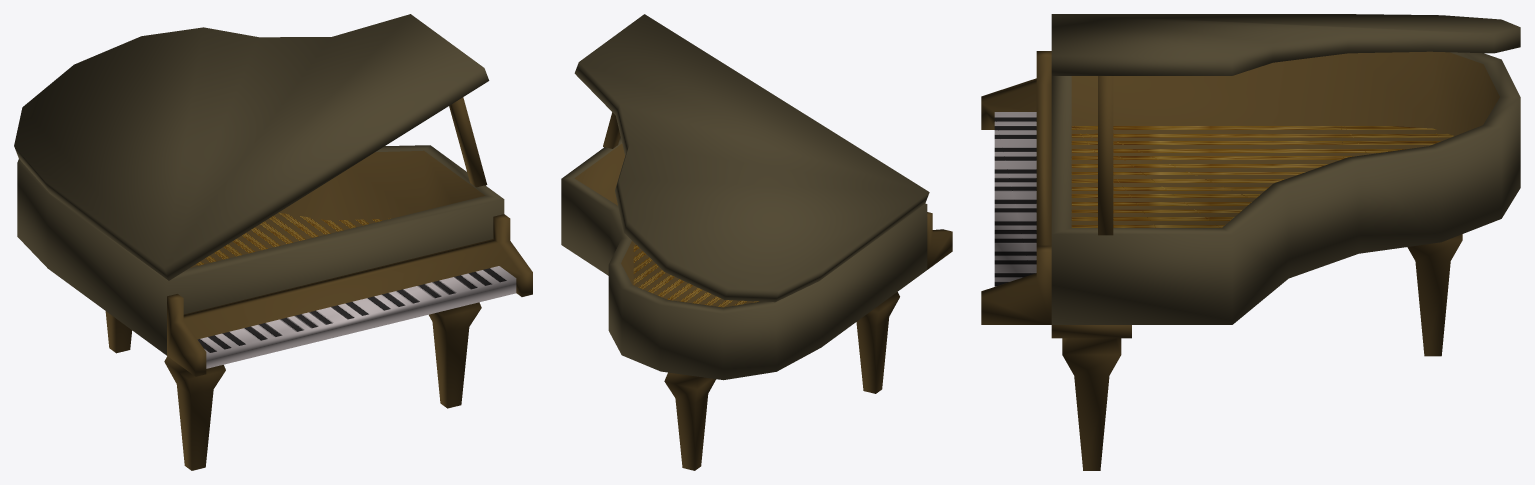
Rendered from piano_1880032c.glb.
3 views of the same model, side by side, from view 1: azimuth 30°, elevation 25°; view 2: azimuth 150°, elevation 25°; view 3: azimuth 270°, elevation 25° (orthographic). The views are drawn at different scales.
Parts seen in each view (by area): view 1: rs_piano_rs_piano_0; view 2: rs_piano_rs_piano_0; view 3: rs_piano_rs_piano_0.
Part boxes in pixels (box(x1,y1,x2,y2)): rs_piano_rs_piano_0: box(14, 14, 532, 470); rs_piano_rs_piano_0: box(561, 14, 952, 470); rs_piano_rs_piano_0: box(981, 14, 1520, 470).
Bounding box in the file's own units: 96.33 × 92.59 × 107.
1 material, 1 textured.
